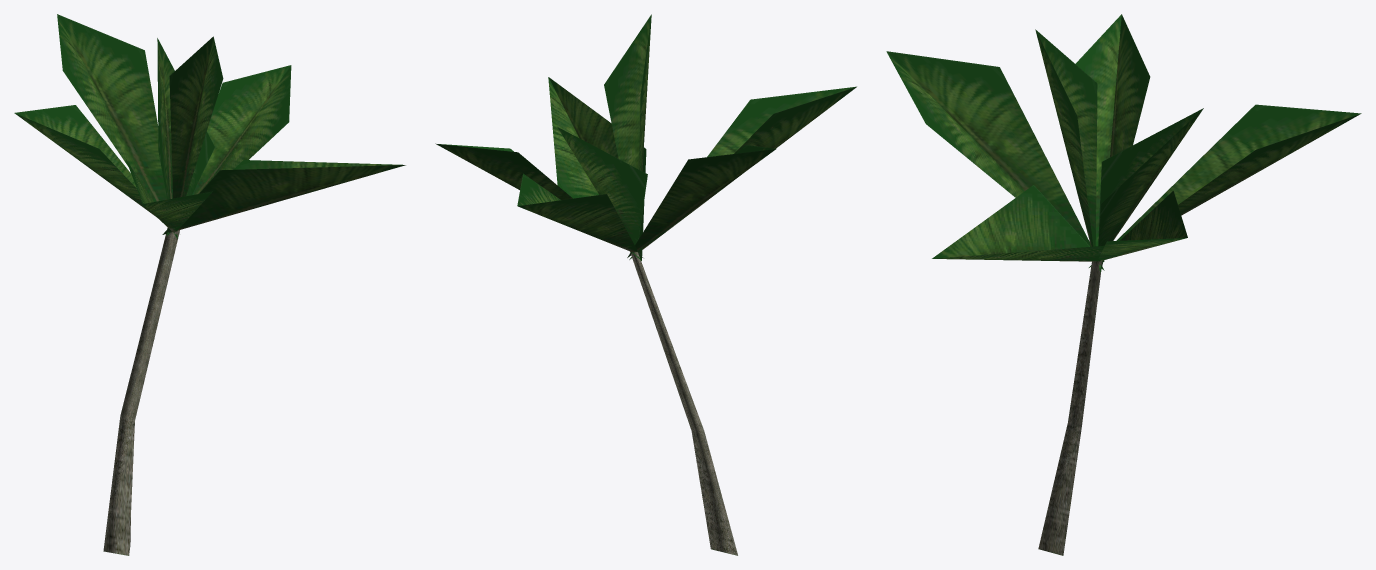
The model's file is ever_palmtree_smflora_l2.fbx.
The picture shows the model from 3 angles, left to right: view 1: azimuth 30°, elevation 25°; view 2: azimuth 150°, elevation 25°; view 3: azimuth 270°, elevation 25°; orthographic projection. The views are drawn at different scales.
Parts seen in each view (by area): view 1: mesh_node; view 2: mesh_node; view 3: mesh_node.
Part boxes in pixels (box(x1,y1,x2,y2)): mesh_node: box(14, 14, 405, 555); mesh_node: box(435, 14, 856, 555); mesh_node: box(886, 14, 1361, 555).
Size of the model in its own units: 7.76 by 12.02 by 9.15.
Materials: 2 (2 with a texture image).
